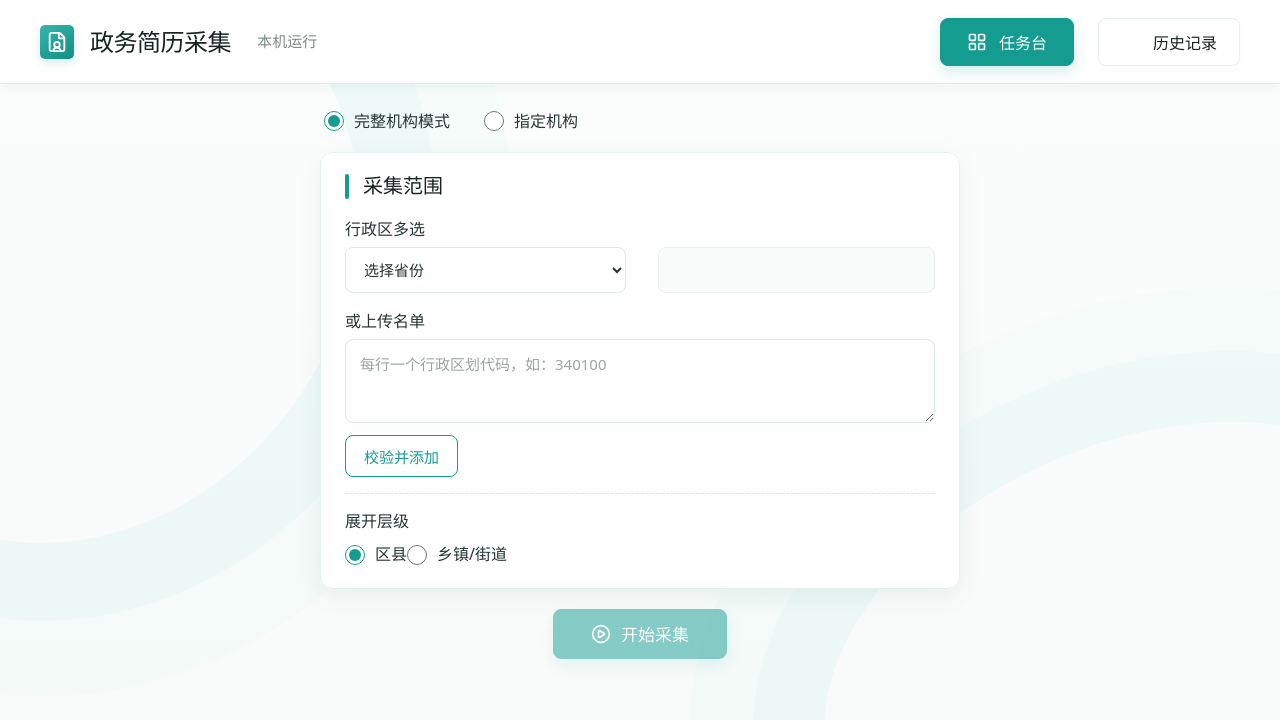
it: 网页工作台 › 结果表不显示 PRIMARY_1 内部槽位
Click the radio button labelled "指定机构". click: (494, 121)
box: x1=484 y1=111 x2=504 y2=131
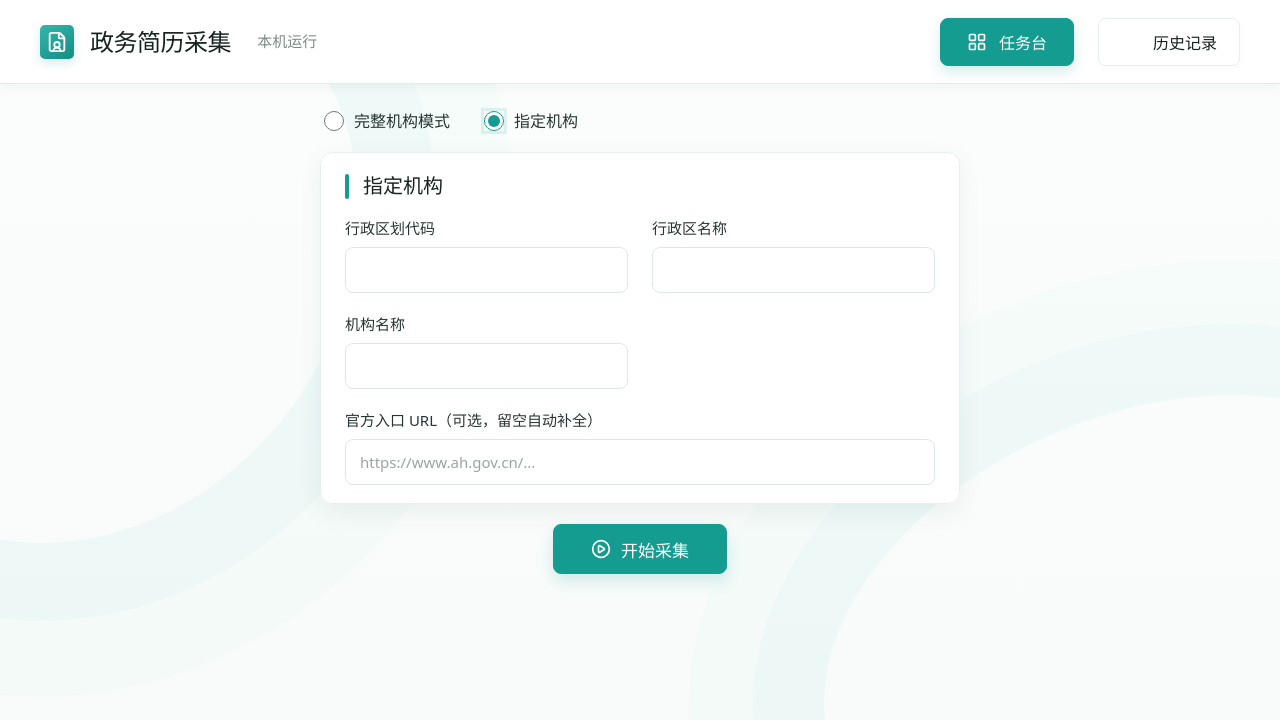
Type "110000" into the field labelled "行政区划代码". click: (486, 270)
box: x1=345 y1=247 x2=628 y2=293
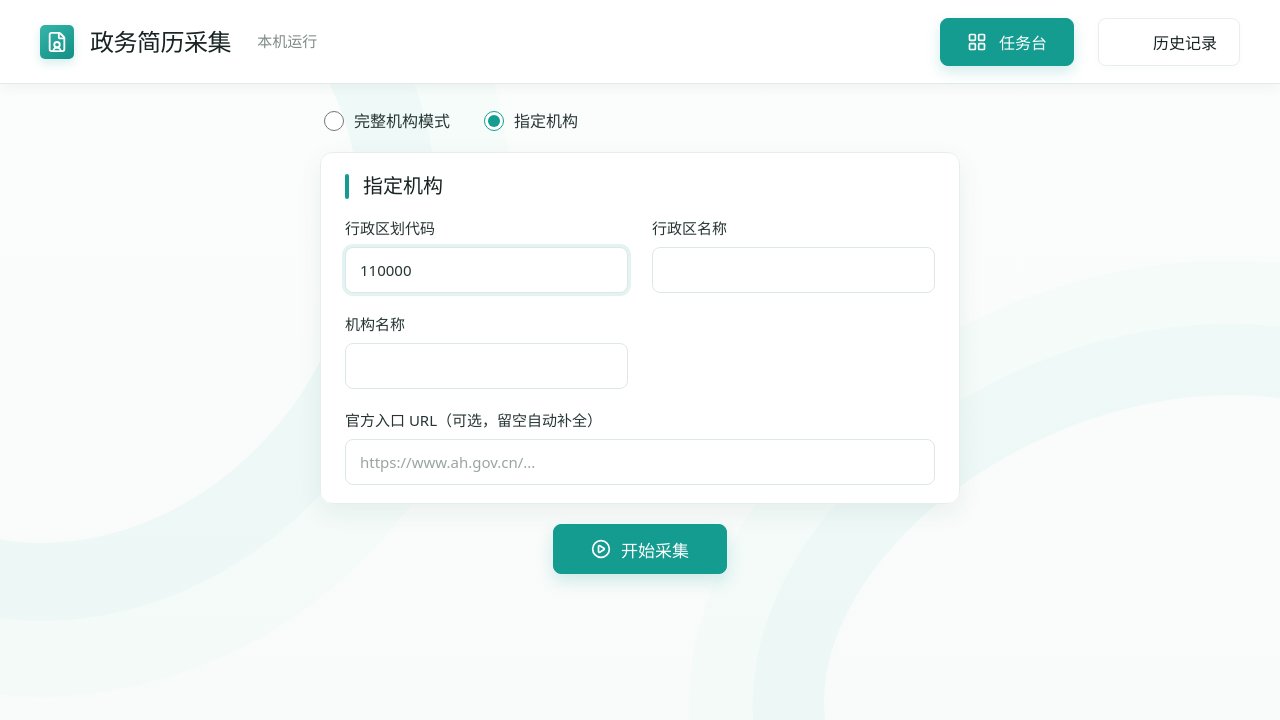
Type "北京市" into the field labelled "行政区名称". click: (794, 270)
box: x1=652 y1=247 x2=935 y2=293
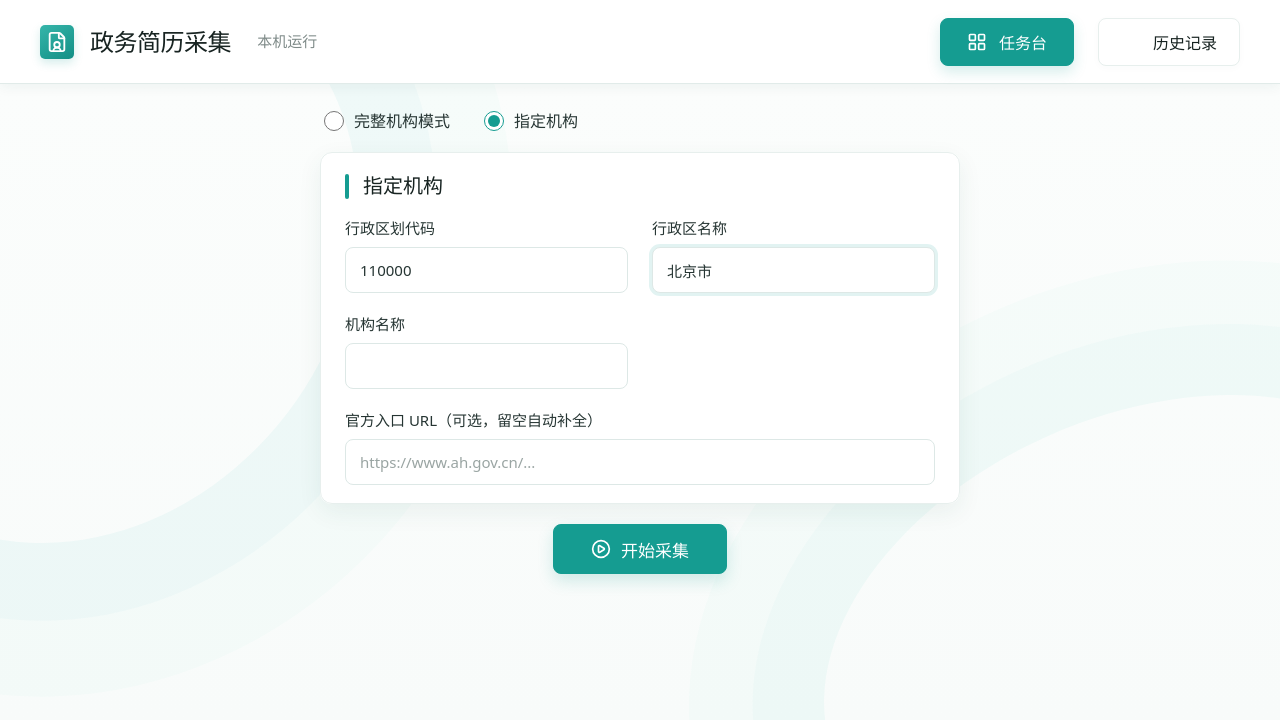
Type "某某区人民政府" into the field labelled "机构名称". click: (486, 366)
box: x1=345 y1=343 x2=628 y2=389
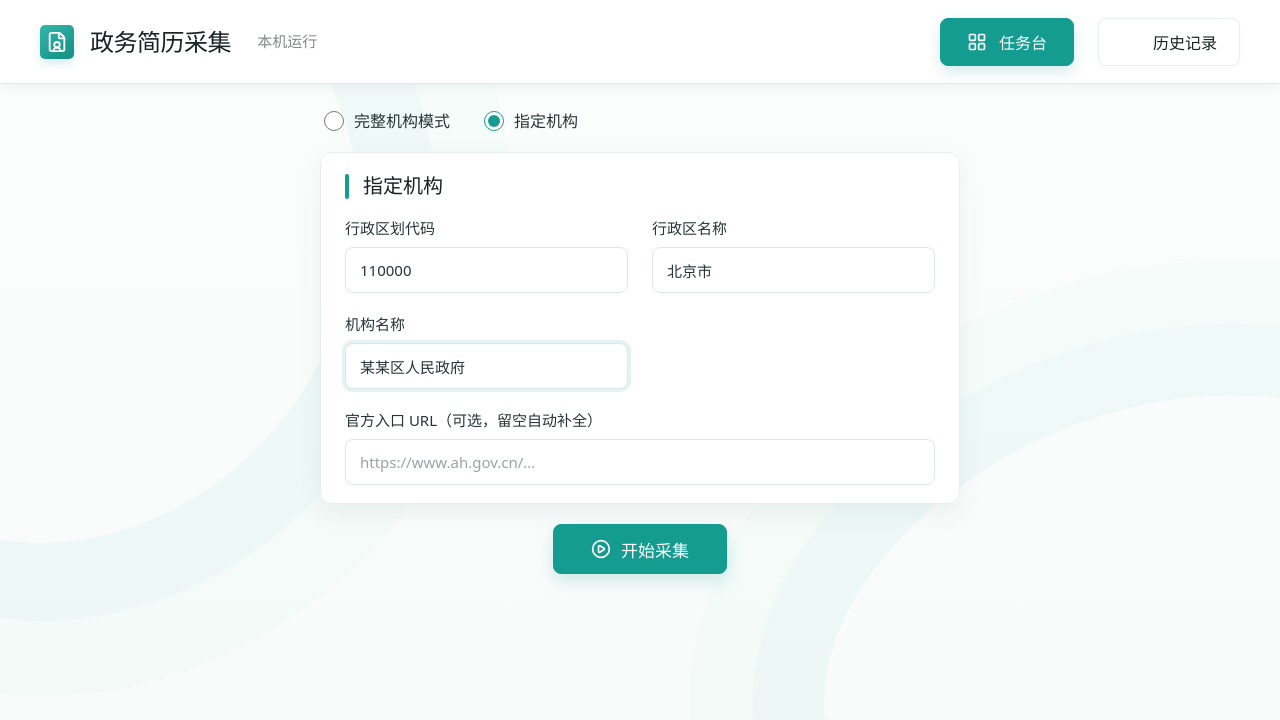
Click the button "开始采集". click: (640, 549)
box: x1=553 y1=524 x2=727 y2=574
(page scrolled)
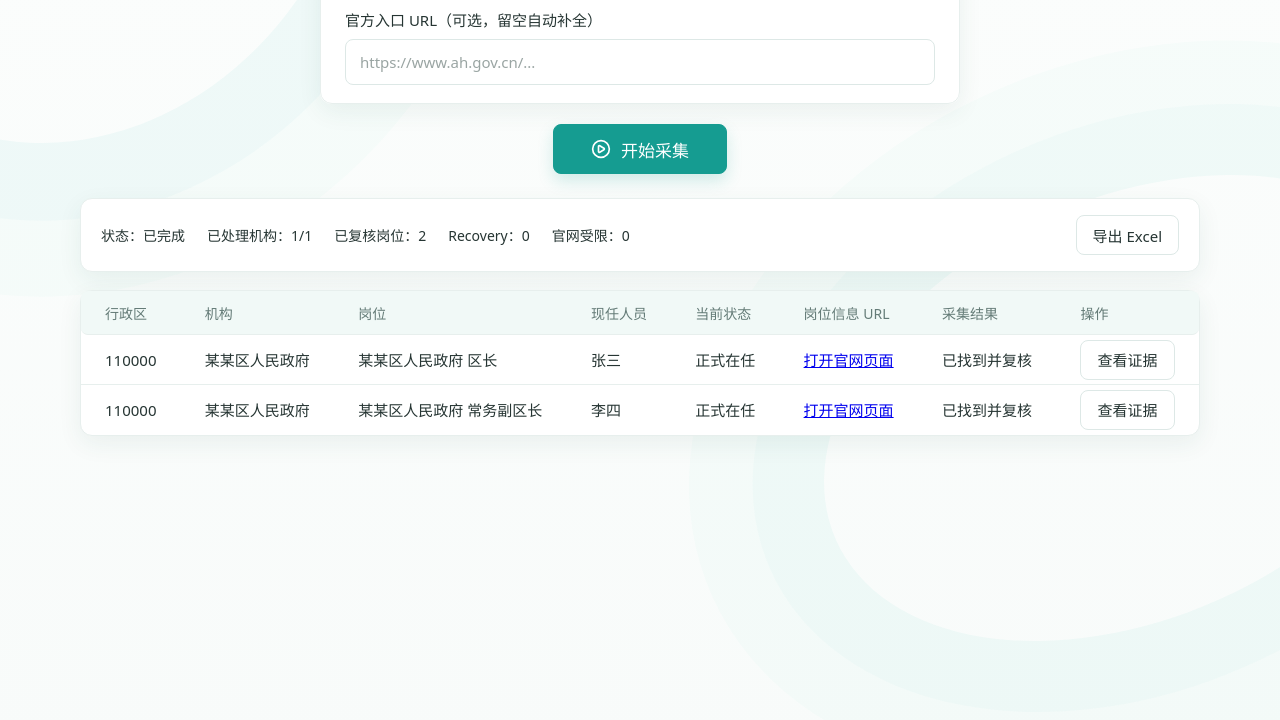
expect the text "张三" is shown: met, box x1=567 y1=335 x2=671 y2=385
